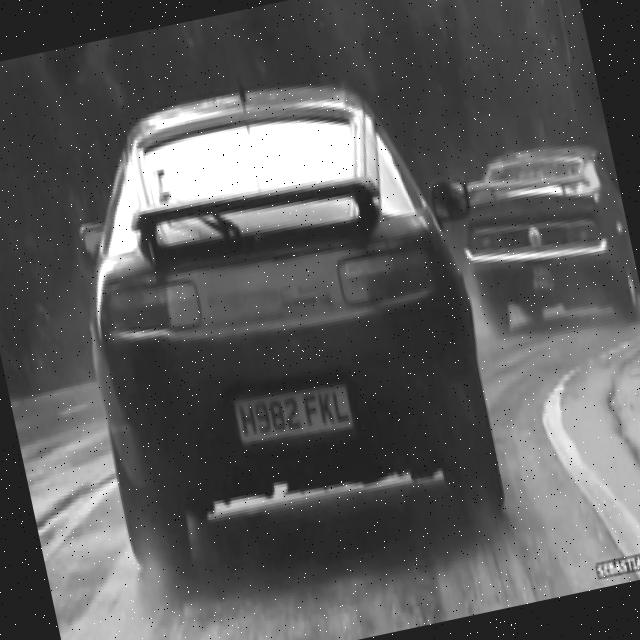Autre: (228, 366, 361, 451)
